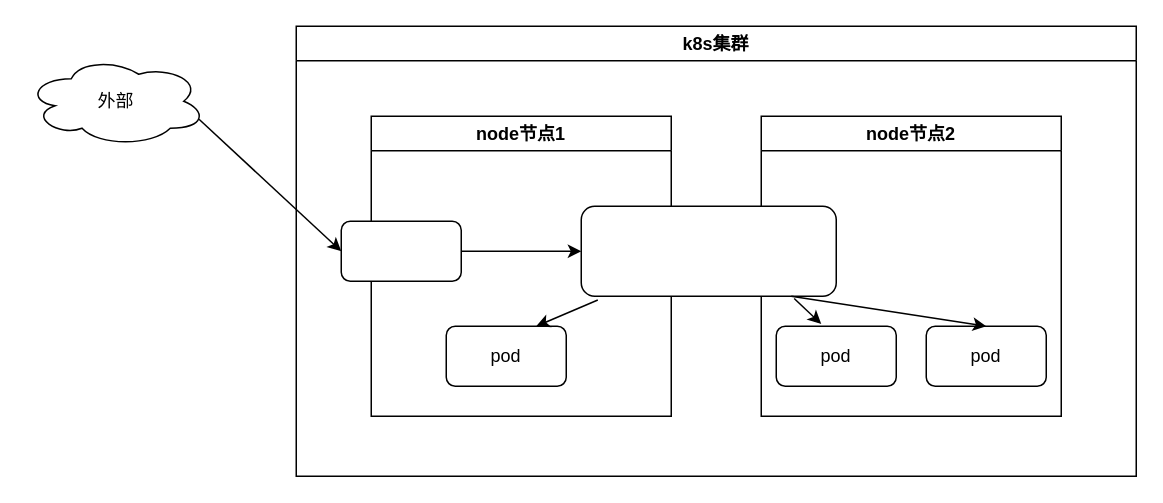
This 1163x503 diagram has some shape labels left out. The shapes that lost their labels are listed below. From the top down, each one's centre as x and y in pixels, then its label:
At point (400, 250): "node节点的端口".
At point (708, 250): "service NodePort".
